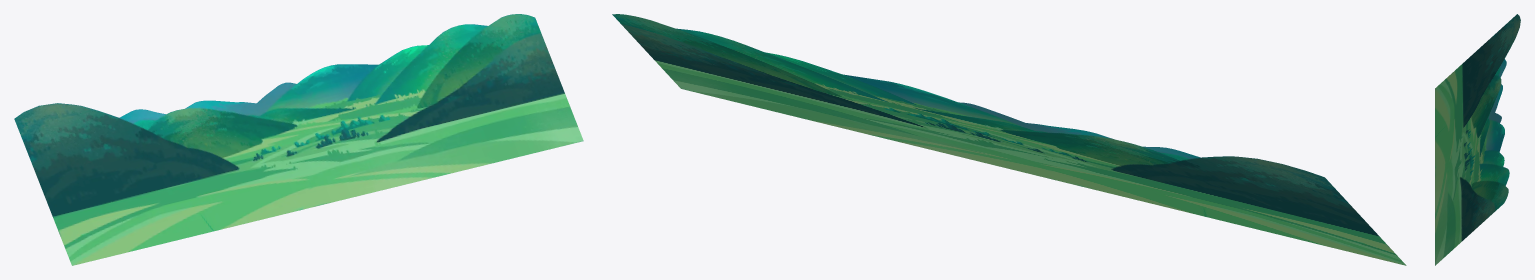
File: mountain.glb
3 renders of one model, left to right at view 1: azimuth 30°, elevation 25°; view 2: azimuth 150°, elevation 25°; view 3: azimuth 270°, elevation 25°, orthographic. The views are drawn at different scales.
Parts seen in each view (by area): view 1: mountain; view 2: mountain; view 3: mountain.
Boxes of the visible parts, x1,y1,x2,y2 form: mountain: (14,14,583,265); mountain: (612,14,1406,265); mountain: (1435,14,1520,265).
Size of the model in its own units: 29.45 by 6.02 by 6.02.
Materials: 1 (1 with a texture image).
